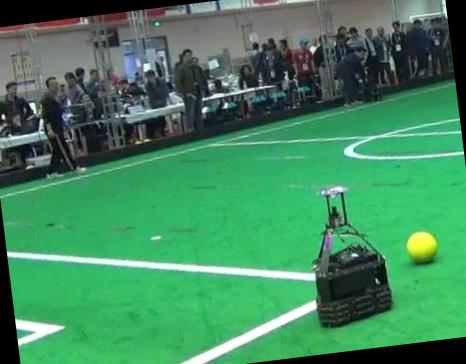ball: (406, 231, 437, 262)
person: (41, 77, 86, 176)
robot: (315, 186, 391, 326)
